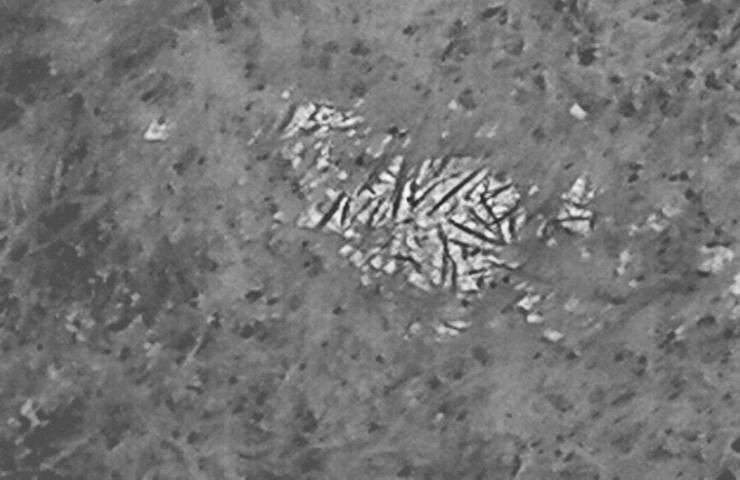landmines: (325, 146, 534, 300)
